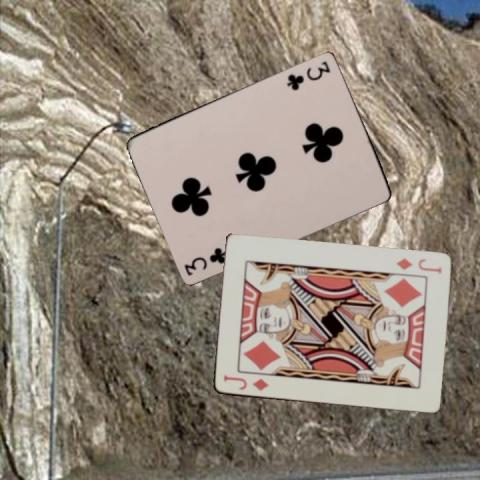3c: (284, 58, 331, 92), (181, 244, 228, 276)
Jd: (393, 255, 443, 276), (221, 372, 269, 393)
